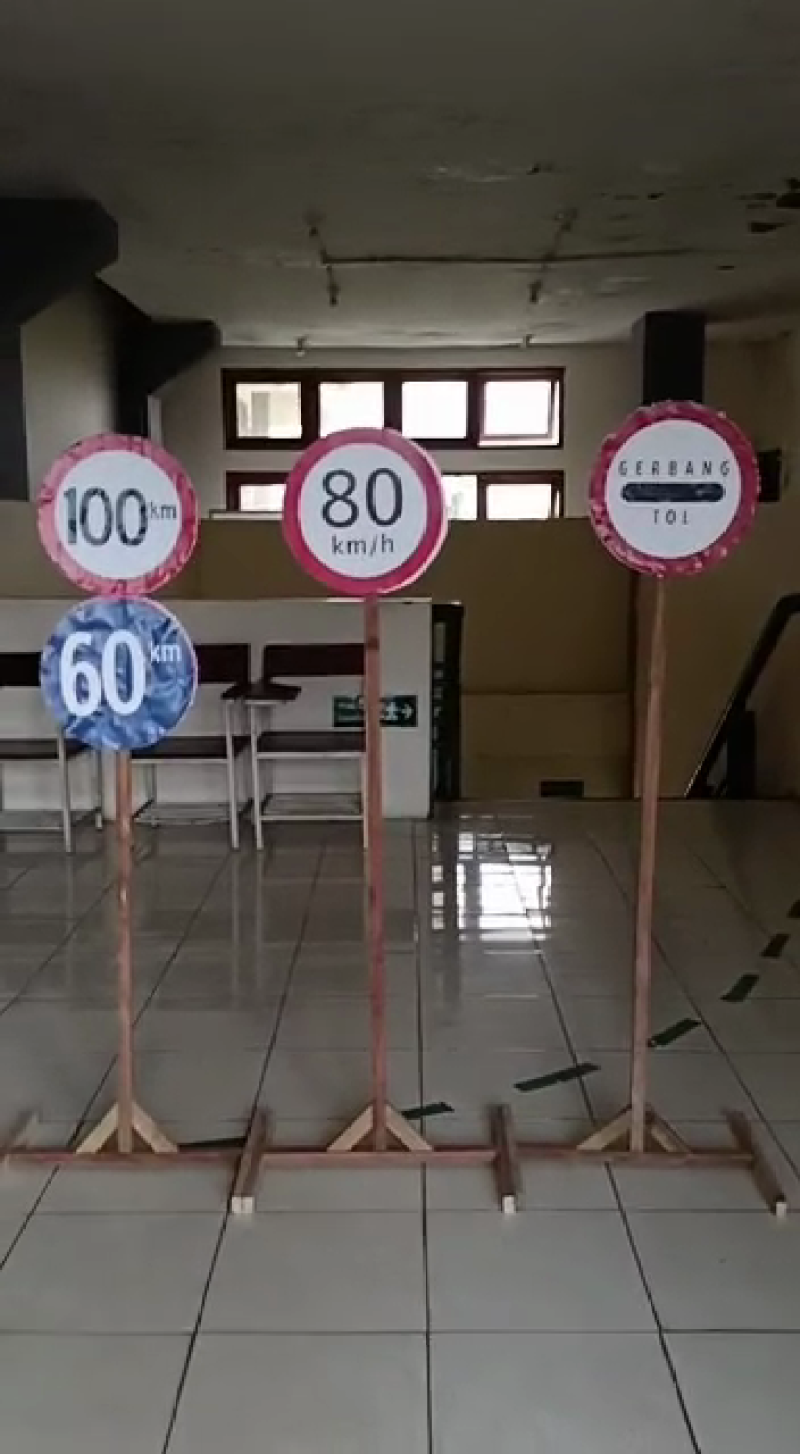batas maksimal 100kmperjam minimal 60kmperjam: (20, 418, 222, 766)
batas maksimal 80kmperjam: (279, 427, 448, 596)
gerbang tol: (574, 398, 766, 590)
